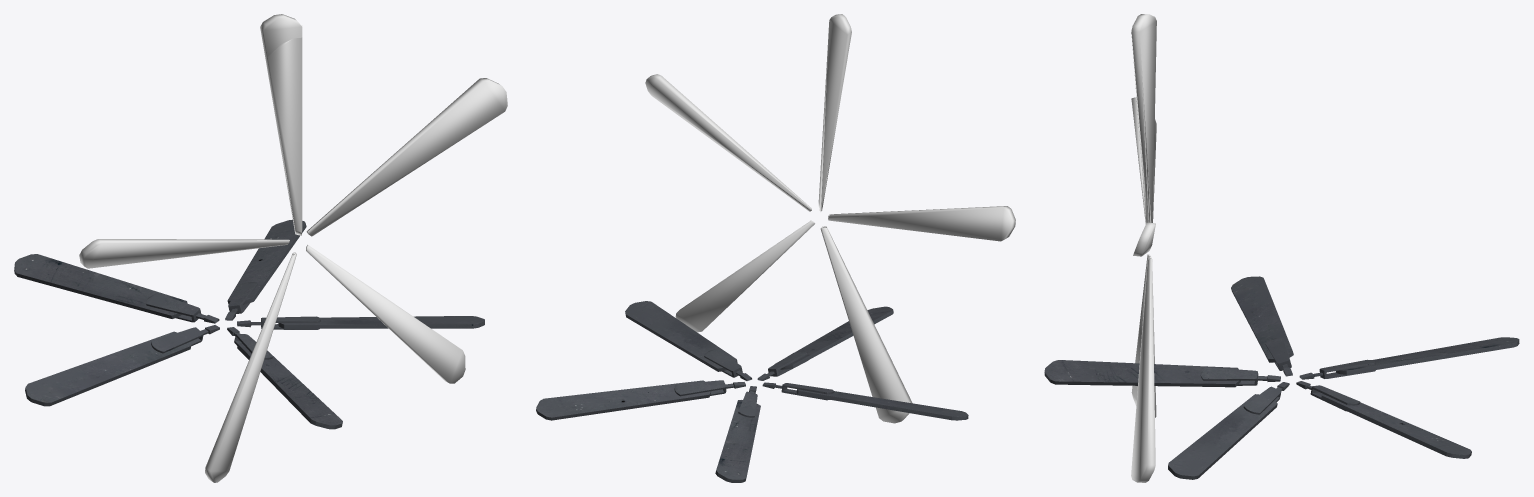
The model's file is SM_Blades.fbx.
3 renders of one model, left to right at view 1: azimuth 30°, elevation 25°; view 2: azimuth 150°, elevation 25°; view 3: azimuth 270°, elevation 25°, orthographic. The views are drawn at different scales.
Parts seen in each view (by area): view 1: SM_Blades_ConvexHulls, SM_Blades; view 2: SM_Blades_ConvexHulls, SM_Blades; view 3: SM_Blades, SM_Blades_ConvexHulls.
Part boxes in pixels (x1,y1,x2,y2): SM_Blades_ConvexHulls: (79,14,507,482); SM_Blades: (14,219,484,429); SM_Blades_ConvexHulls: (645,14,1015,423); SM_Blades: (536,301,968,482); SM_Blades: (1044,276,1519,479); SM_Blades_ConvexHulls: (1131,14,1156,482).
Bounding box in the file's own units: 1.56 × 1.59 × 1.59.
